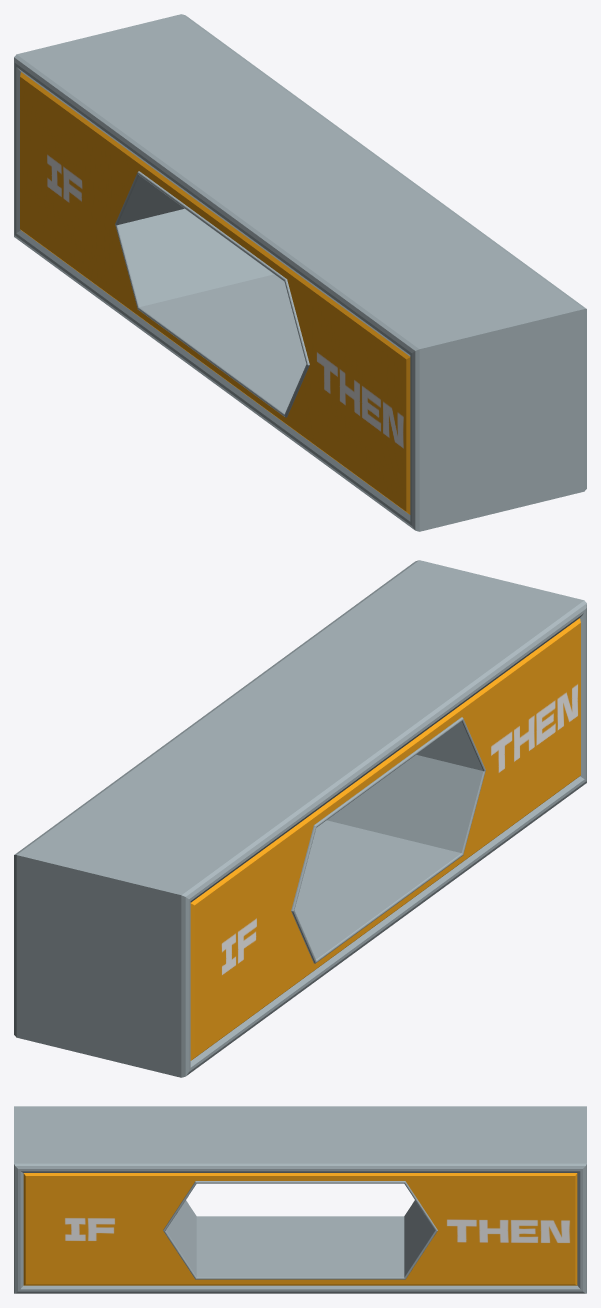
File: CONTROL_IF.fbx
3 views of the same model, one above another, from view 1: azimuth 30°, elevation 25°; view 2: azimuth 150°, elevation 25°; view 3: azimuth 270°, elevation 25° (orthographic). The views are drawn at different scales.
Visible parts, largest first — view 1: CONTROL_IF; view 2: CONTROL_IF; view 3: CONTROL_IF.
Part boxes in pixels (bbox=[...]): CONTROL_IF: bbox=[14, 14, 586, 531]; CONTROL_IF: bbox=[14, 560, 586, 1077]; CONTROL_IF: bbox=[14, 1106, 586, 1293].
Size of the model in its own units: 102 by 100 by 400.
1 material, 1 textured.
